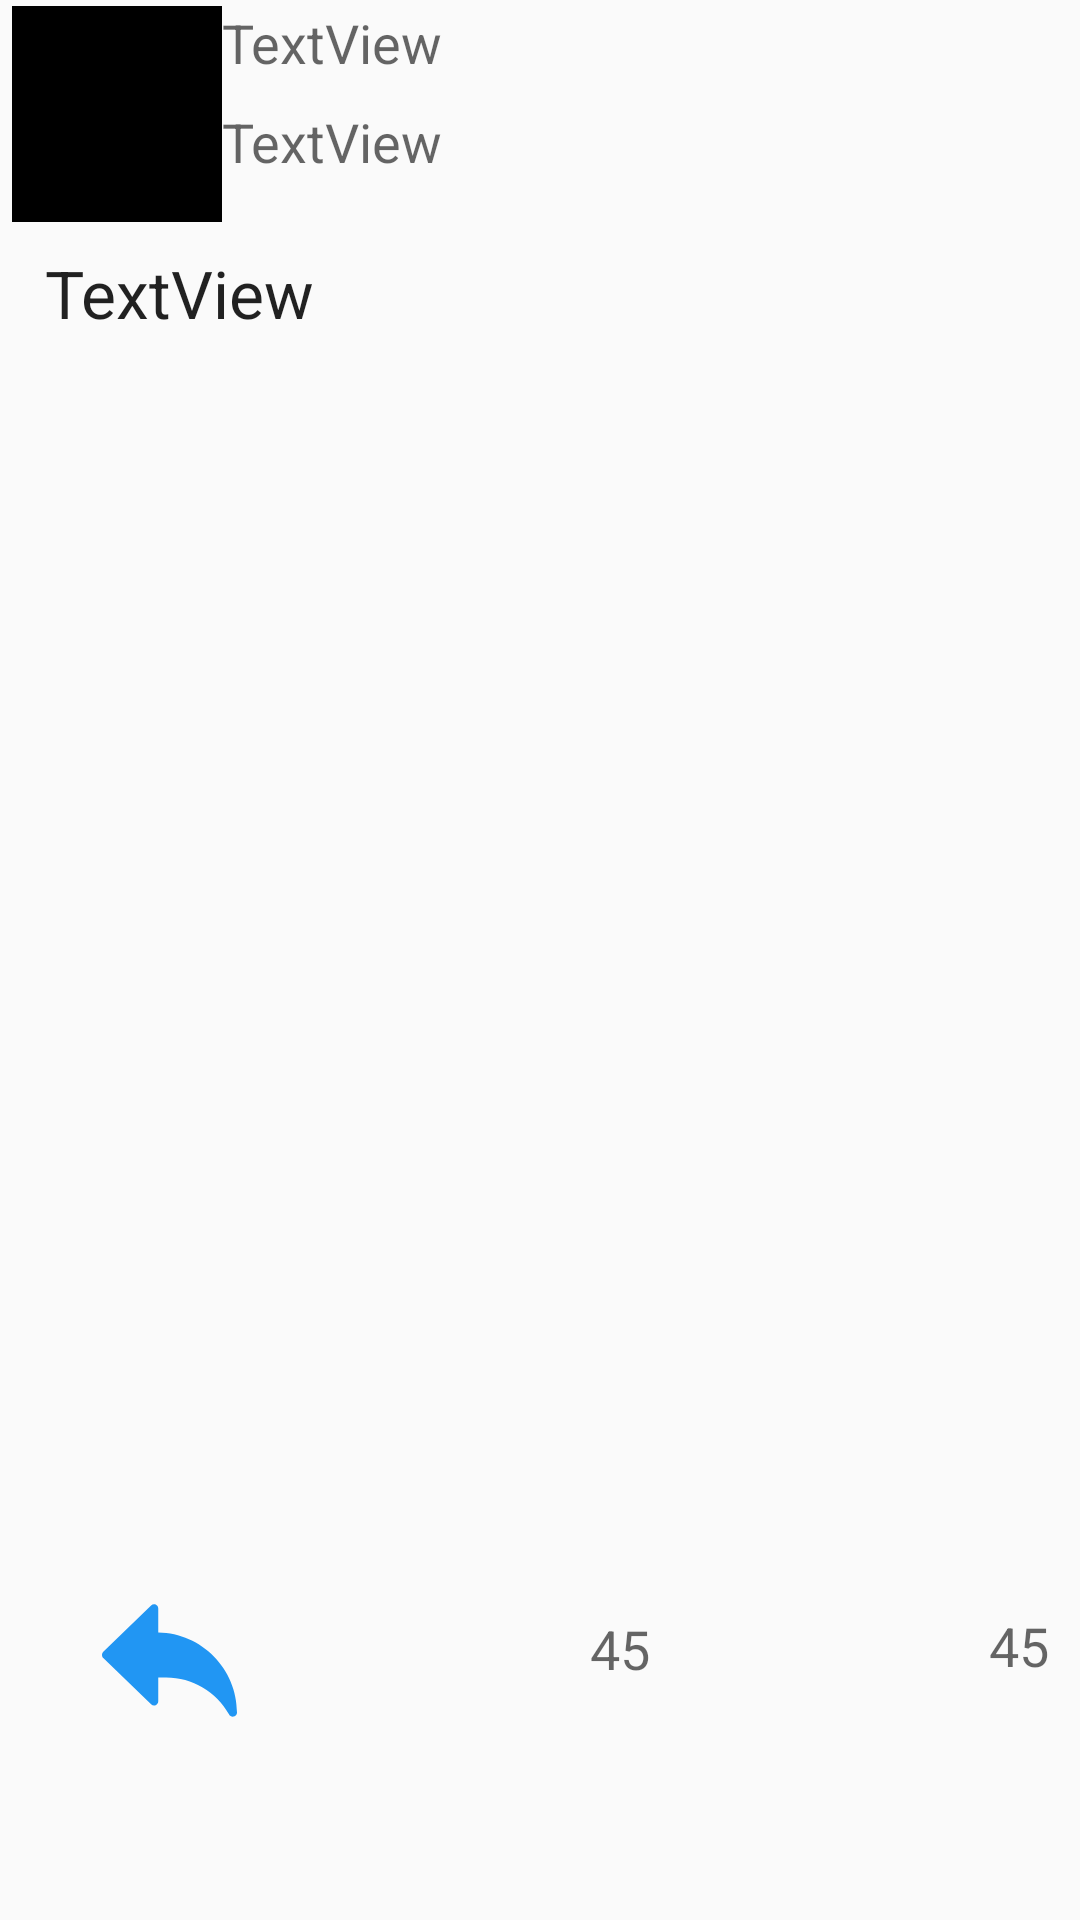

Screen size 1080px×1920px. Icon name, then its box in pixels as Rect(x1, y1, x2, y2):
reply: Rect(102, 1604, 237, 1717)
